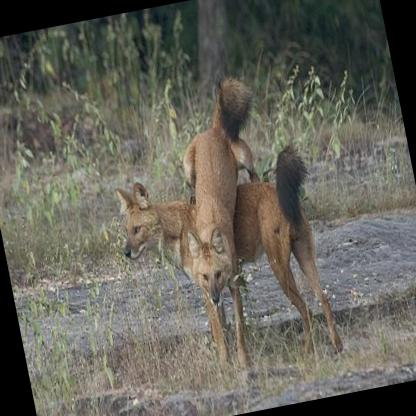dhole: (104, 135, 344, 388), (152, 70, 305, 387)
